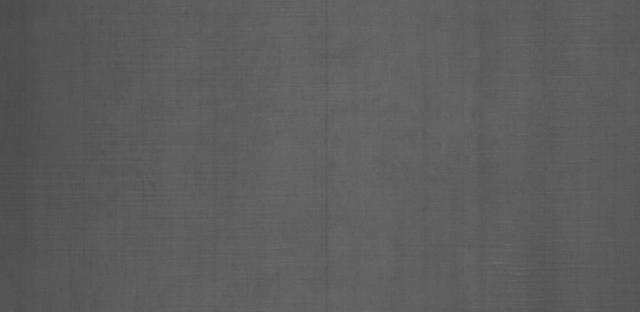waist_folding: (484, 20, 633, 300)
